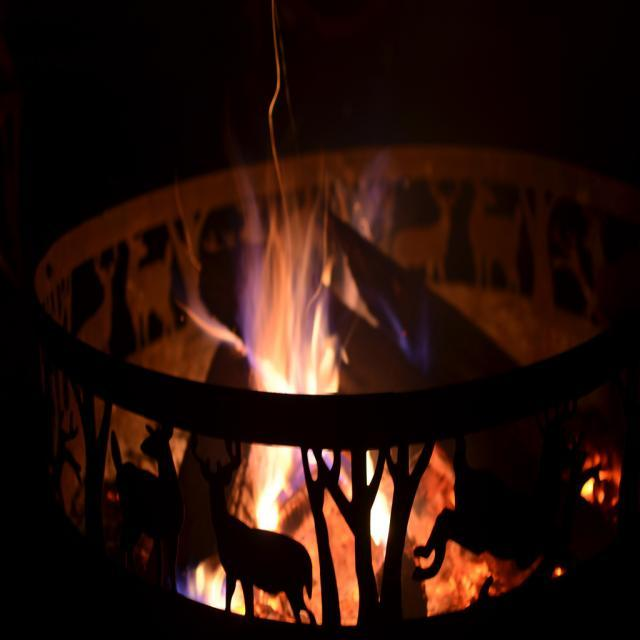Fire: (252, 226, 343, 392), (245, 445, 297, 521)
